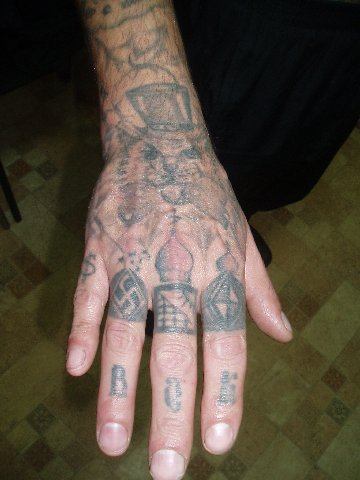tatu3_bukva: (212, 366, 242, 407), (161, 374, 187, 414), (105, 362, 130, 403)
tatu8_kot: (85, 75, 244, 236)
